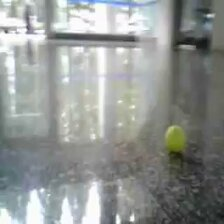tennis: (164, 125, 186, 151)
